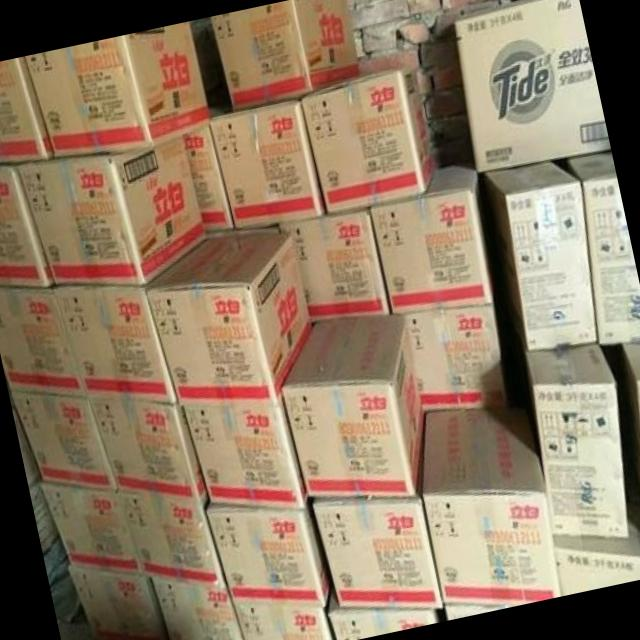box: (145, 231, 314, 405), (16, 136, 207, 286), (421, 407, 562, 608), (454, 0, 611, 173), (281, 312, 425, 498), (23, 23, 212, 156), (484, 160, 597, 349), (525, 342, 629, 538), (300, 65, 435, 214), (368, 164, 495, 313), (211, 0, 361, 109), (208, 97, 325, 229), (51, 281, 176, 404), (312, 497, 445, 610), (182, 394, 307, 509), (567, 149, 640, 345), (205, 498, 332, 606), (277, 208, 390, 322), (86, 397, 207, 502), (405, 302, 507, 414), (7, 387, 118, 489), (117, 490, 226, 589), (552, 487, 640, 596), (0, 286, 86, 397), (42, 483, 141, 575), (67, 565, 168, 640), (0, 164, 54, 288), (328, 584, 439, 640), (151, 577, 243, 640), (0, 56, 54, 163), (181, 123, 235, 230), (234, 603, 334, 640), (7, 387, 39, 488), (28, 475, 59, 558), (443, 605, 505, 620), (205, 225, 279, 237)
